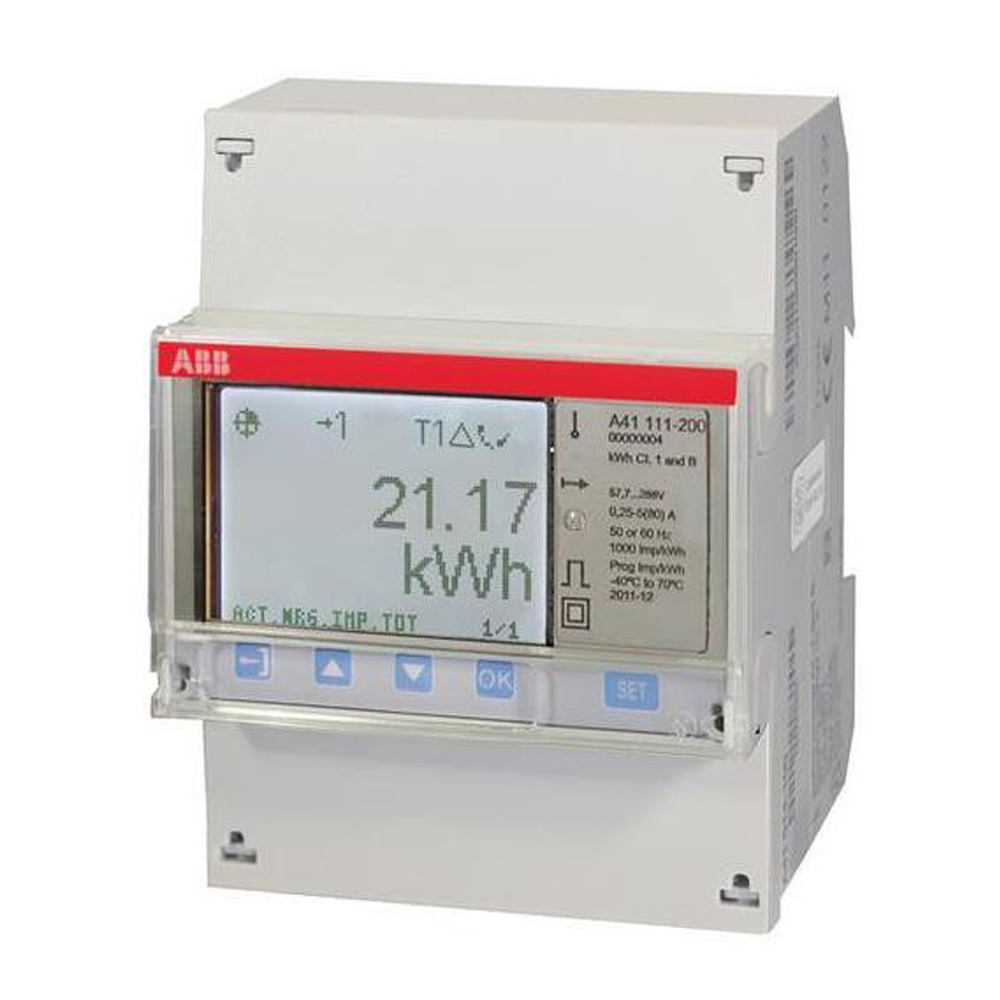counter: (129, 119, 774, 927)
counter_screen: (192, 371, 562, 654)
